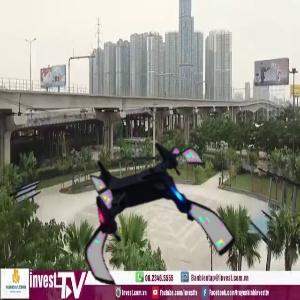drone: (66, 136, 229, 299)
